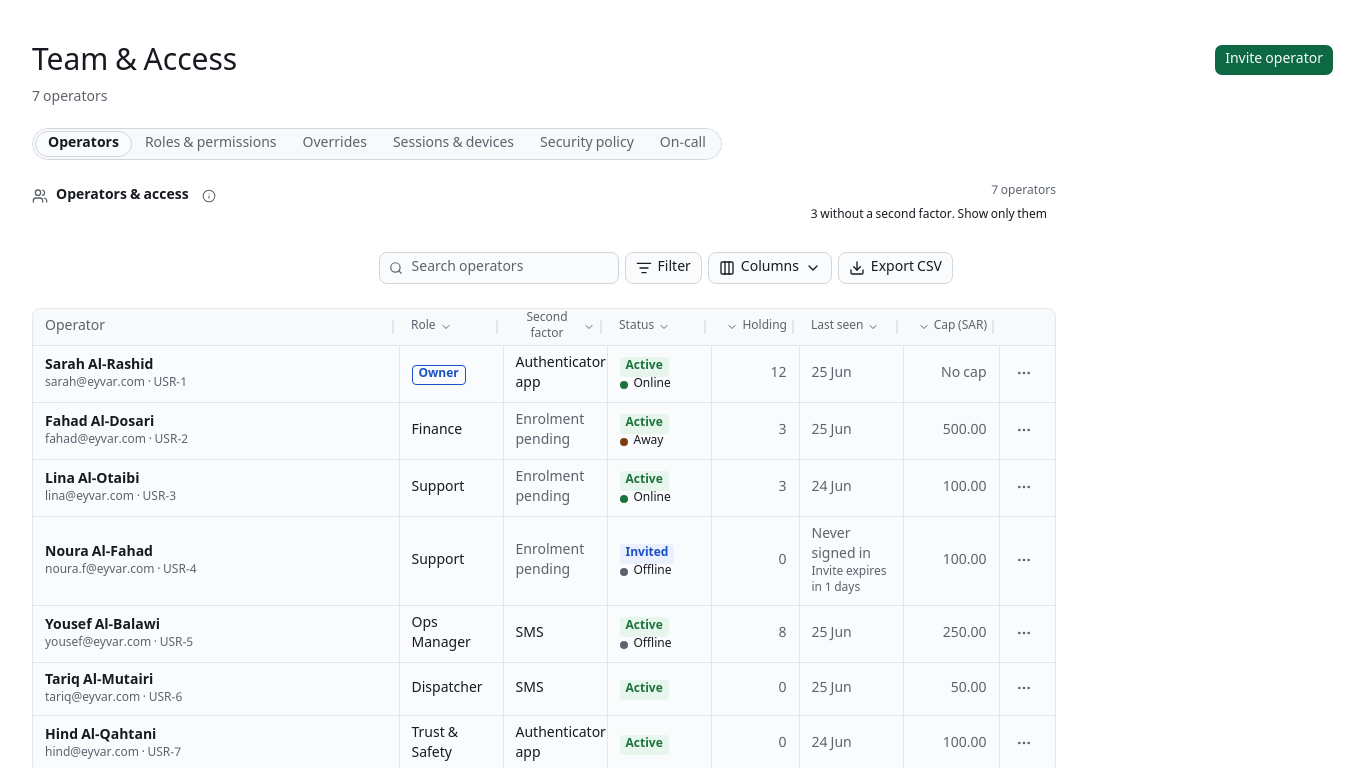
§11.2 — refused, not hidden › renders `Suspend operator` on the last holder, disabled, with the F-016 sentence
Click the button named "More actions" at (1024,372), box [1012,360,1036,384]
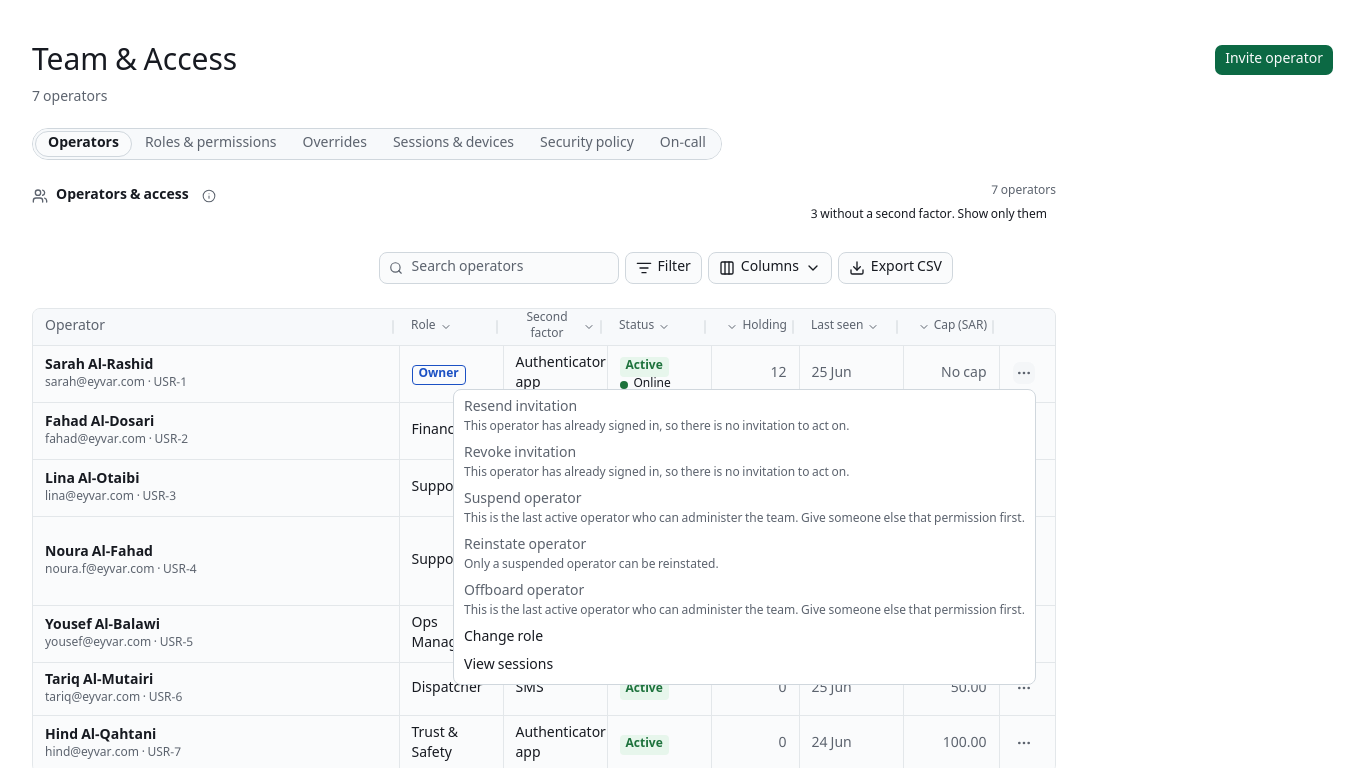
Check: the text "This is the last active operator who can administer the team. Give someone else that permission first." is shown 2 times, box [464,512,1025,528]; [464,604,1025,620]
